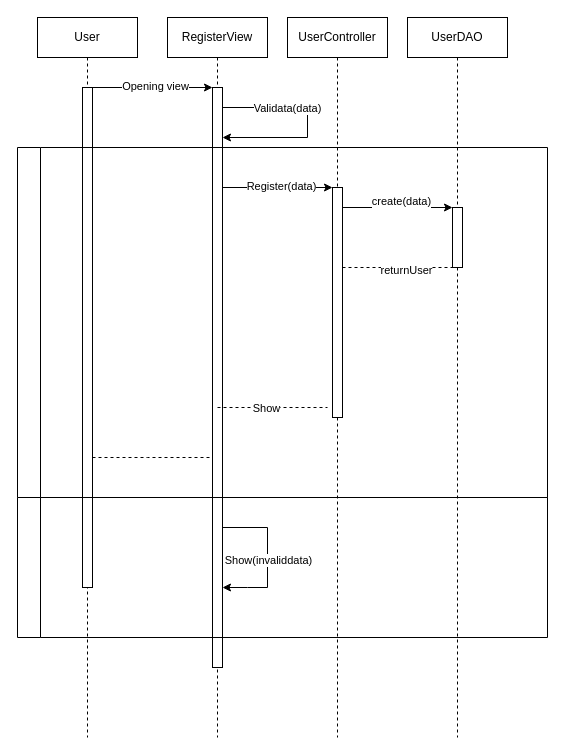
Image size: 565x755. Some labels were removed from this diagram. The shapes that lost their labels are listed below. From the top down, each one's box as (x1, y1, x2, y2) in pixels, then its label:
(16, 146, 548, 498): ValidData
(16, 496, 548, 638): InvalidData
